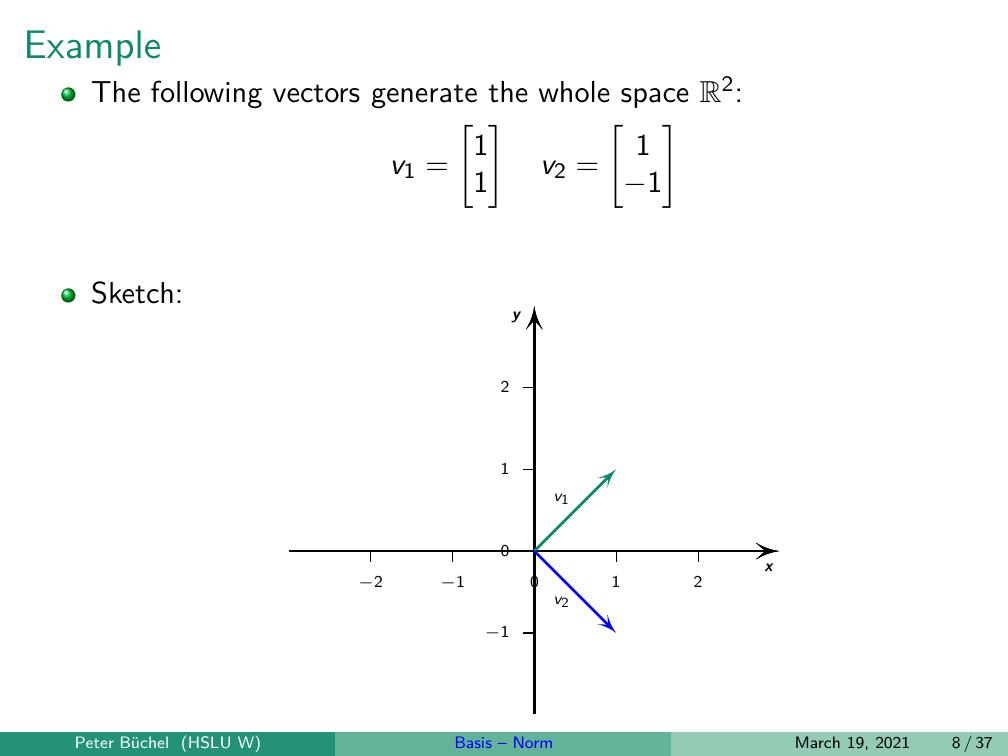Title: (19, 19, 170, 70)
